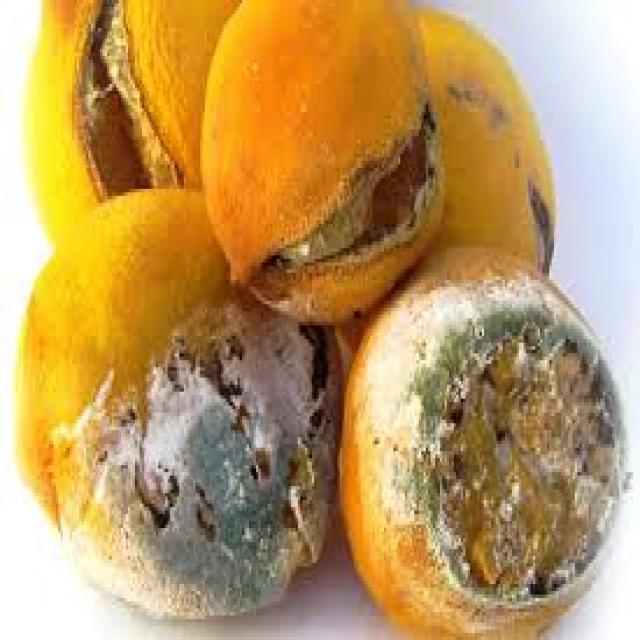organic waste: (12, 182, 335, 615), (335, 242, 628, 636), (316, 0, 552, 346), (198, 0, 442, 322), (23, 0, 239, 241)
